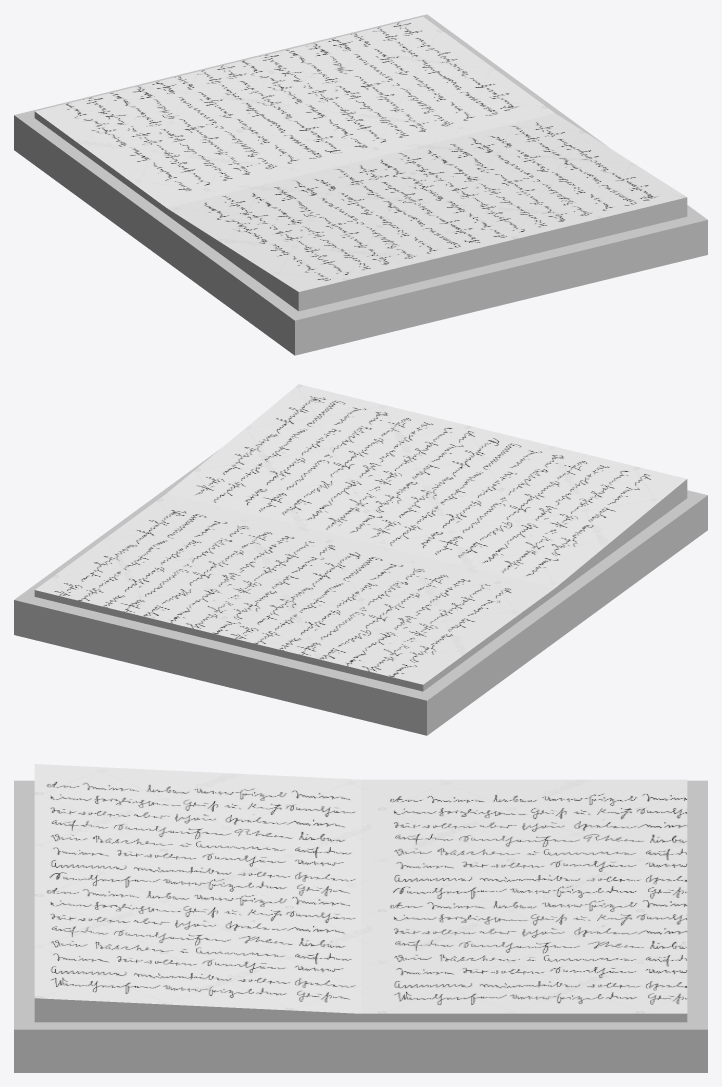
The model's file is днеавник.fbx.
3 renders of one model, top to bottom at view 1: azimuth 30°, elevation 25°; view 2: azimuth 150°, elevation 25°; view 3: azimuth 270°, elevation 25°, orthographic. The views are drawn at different scales.
Visible parts, largest first — view 1: Cube; view 2: Cube; view 3: Cube.
Part boxes in pixels (bbox=[...]): Cube: bbox=[14, 14, 707, 355]; Cube: bbox=[14, 384, 707, 735]; Cube: bbox=[14, 764, 707, 1072].
Size of the model in its own units: 179 by 22.59 by 211.
Materials: 2 (1 with a texture image).
